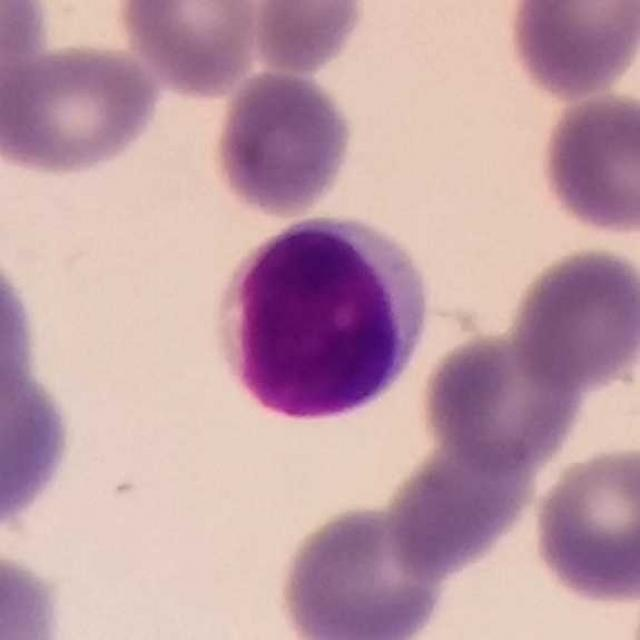Lymphocyte: (206, 209, 437, 431)
RBC: (416, 325, 591, 478), (270, 497, 454, 640), (379, 428, 541, 582), (1, 38, 166, 179), (210, 66, 358, 220), (504, 242, 640, 394), (527, 441, 640, 609), (534, 88, 640, 241), (0, 338, 79, 539), (112, 0, 264, 100), (501, 0, 640, 102), (248, 0, 370, 78), (0, 238, 45, 432), (0, 546, 72, 640), (0, 0, 52, 82)
